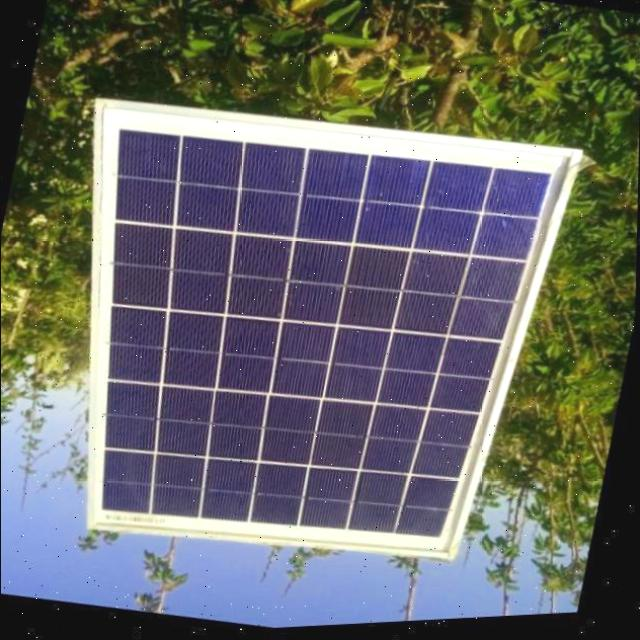Normal Solar Panel: (12, 70, 584, 604)
